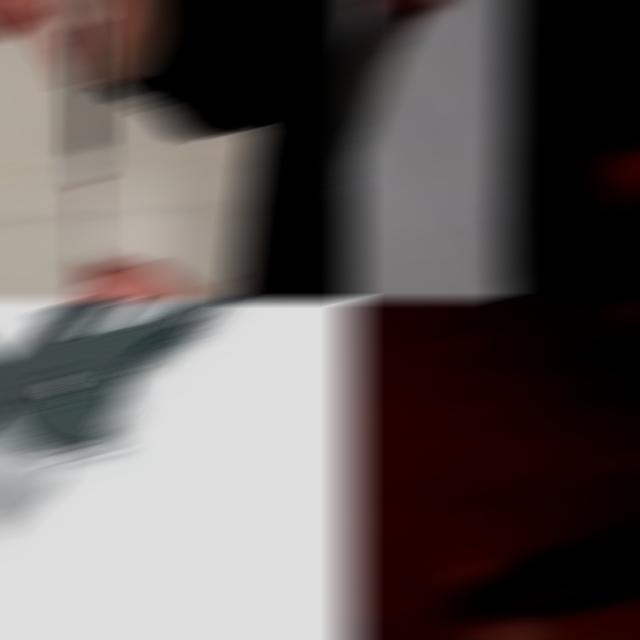Knife: (0, 302, 237, 535), (344, 11, 424, 254)
Knife_Handle: (32, 2, 221, 298), (440, 345, 640, 618), (344, 2, 496, 266), (0, 2, 110, 287)
